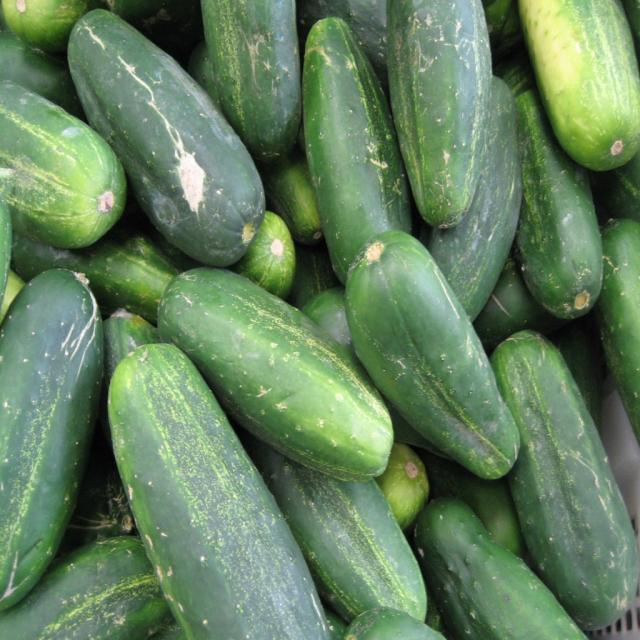Cucumber: (0, 0, 639, 639), (169, 268, 399, 498), (0, 265, 102, 611)
